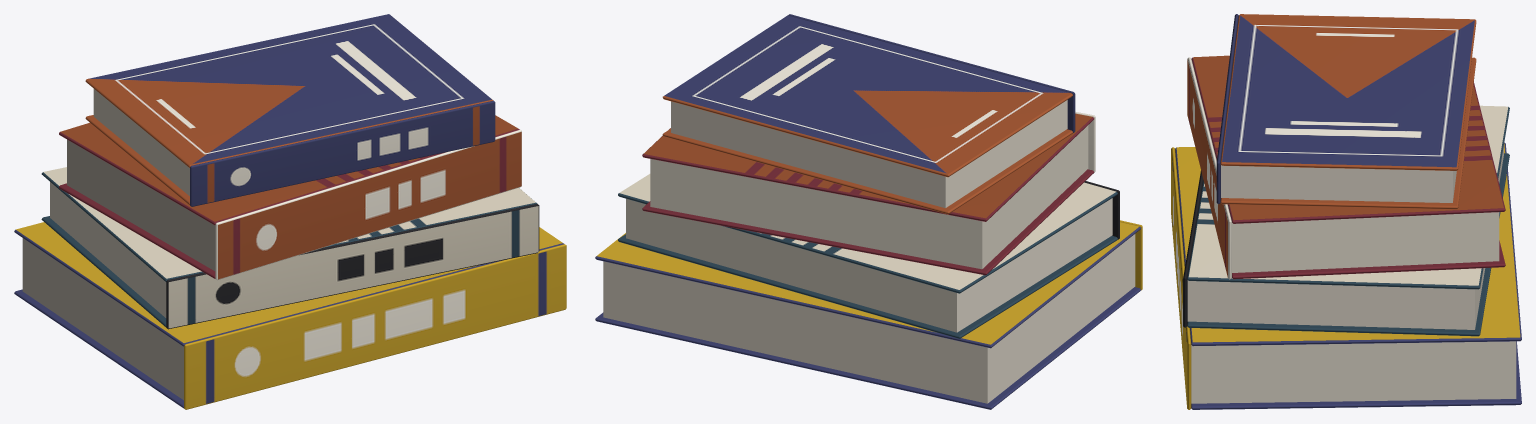
File: ap_book_stack.fbx
3 views of the same model, side by side, from view 1: azimuth 30°, elevation 25°; view 2: azimuth 150°, elevation 25°; view 3: azimuth 270°, elevation 25° (orthographic). The views are drawn at different scales.
Visible parts, largest first — view 1: ap_book_stack; view 2: ap_book_stack; view 3: ap_book_stack.
Part boxes in pixels (<box>): ap_book_stack: <box>14,14,566,409</box>; ap_book_stack: <box>595,14,1142,409</box>; ap_book_stack: <box>1171,14,1521,409</box>.
Size of the model in its own units: 0.2561 by 0.13 by 0.1886.
Materials: 2 (1 with a texture image).
